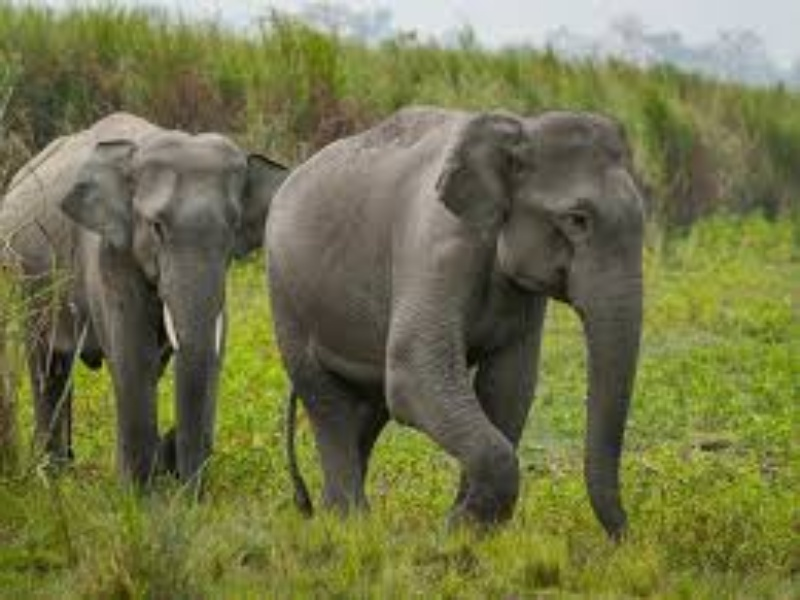elephant: (262, 83, 689, 553), (4, 93, 269, 505)
